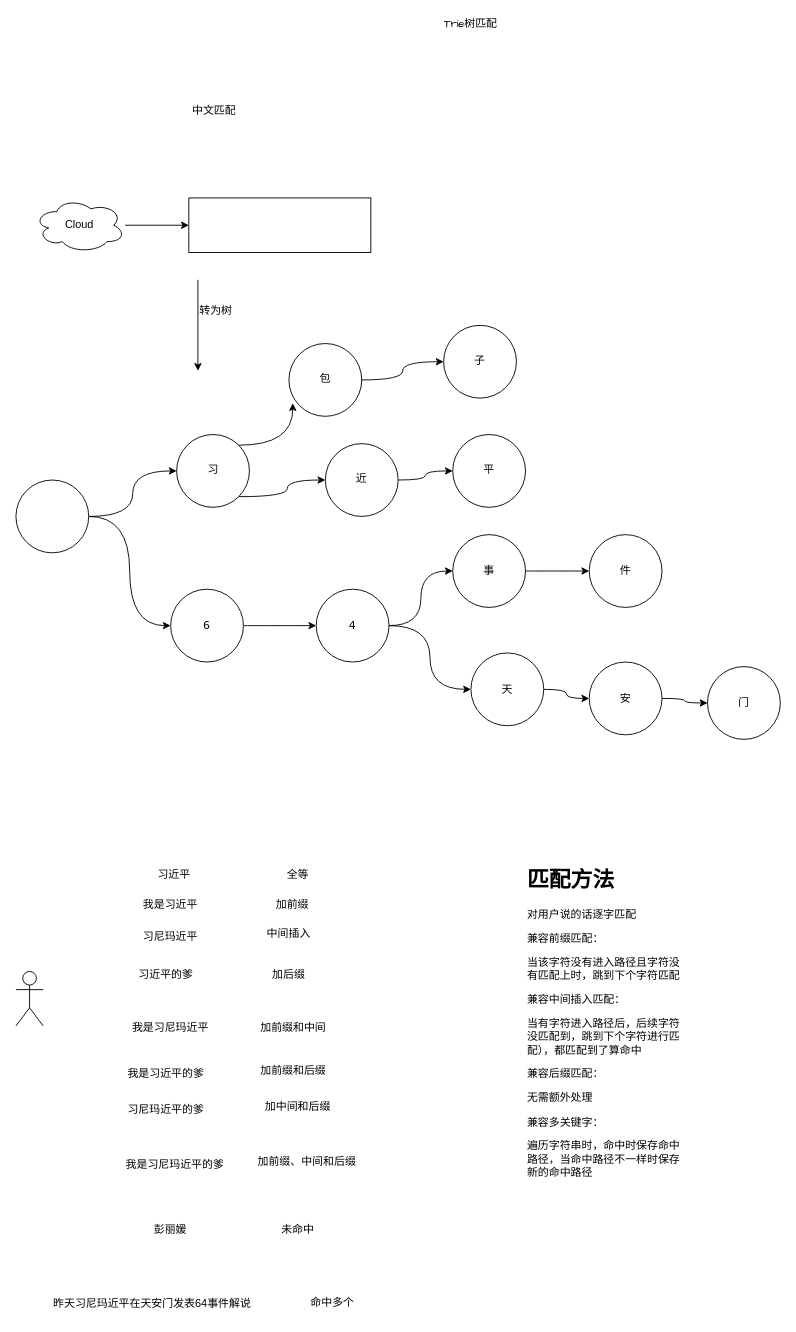
The diagram is 796 pixels wide and 1332 high, and some of its shapes have lost their labels. Each missing label, with the centre of its shape:
"[习包子,习近平,64事件,64天安门...]" goes at point (279, 225).
"用户" goes at point (29, 998).
